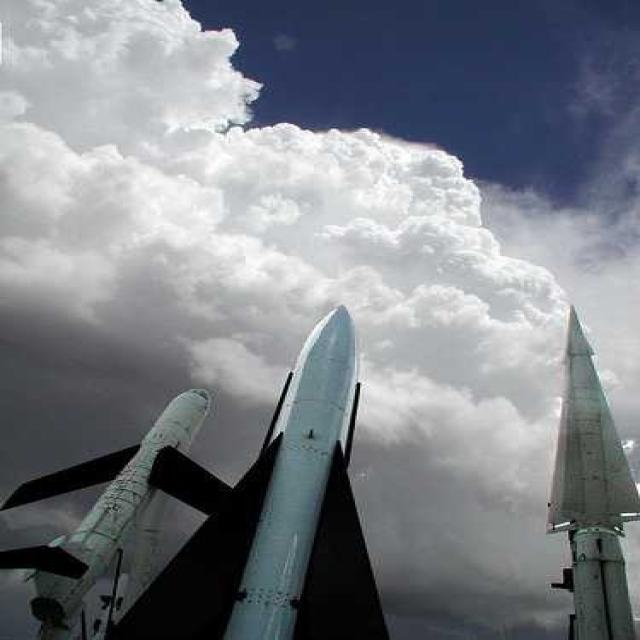missile: (193, 296, 369, 640), (0, 375, 231, 617), (548, 298, 640, 640)
